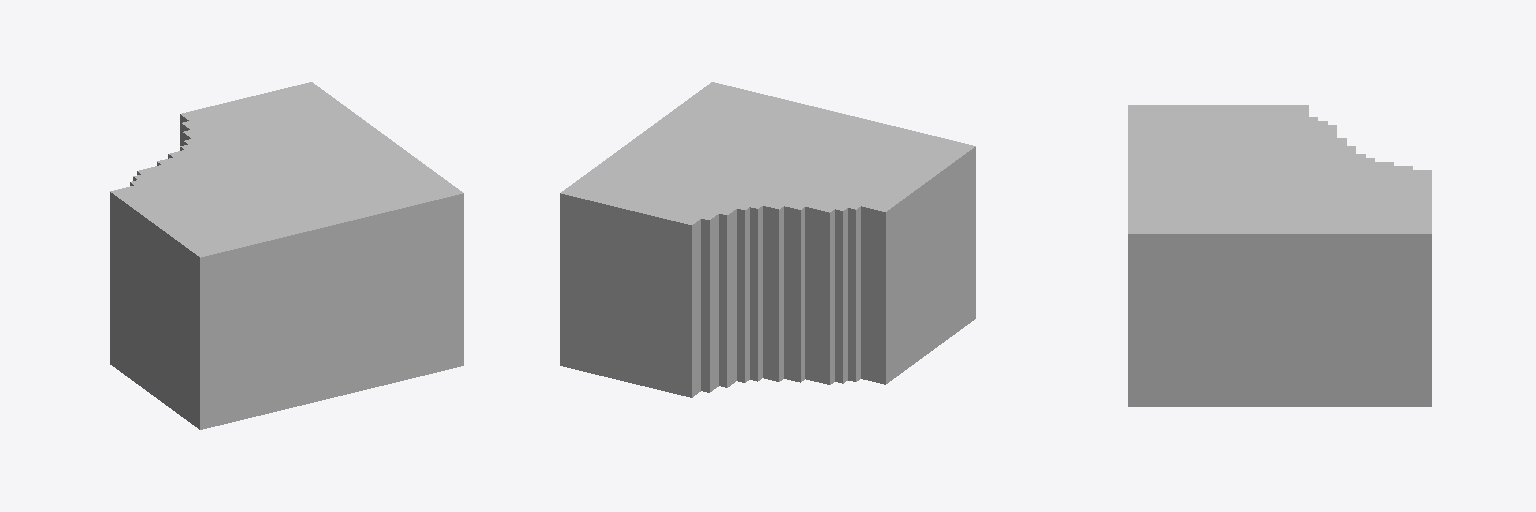
Rendered from pondtile-5.obj.
3 views of the same model, side by side, from view 1: azimuth 30°, elevation 25°; view 2: azimuth 150°, elevation 25°; view 3: azimuth 270°, elevation 25° (orthographic).
Visible parts, largest first — view 1: pondtile-5; view 2: pondtile-5; view 3: pondtile-5.
Part boxes in pixels (left/top/right/bottom): pondtile-5: left=110, top=82, right=463, bottom=429; pondtile-5: left=560, top=82, right=975, bottom=397; pondtile-5: left=1128, top=105, right=1431, bottom=406.
Size of the model in its own units: 3.2 by 2 by 3.2.